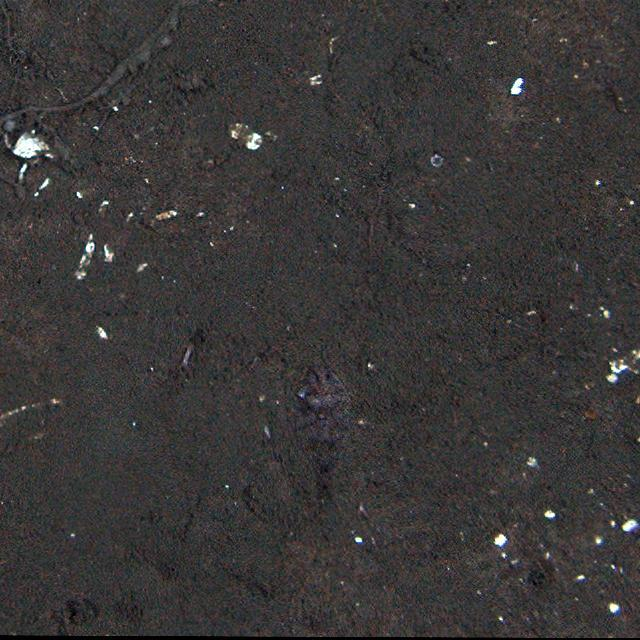flatfish: (298, 362, 356, 506)
